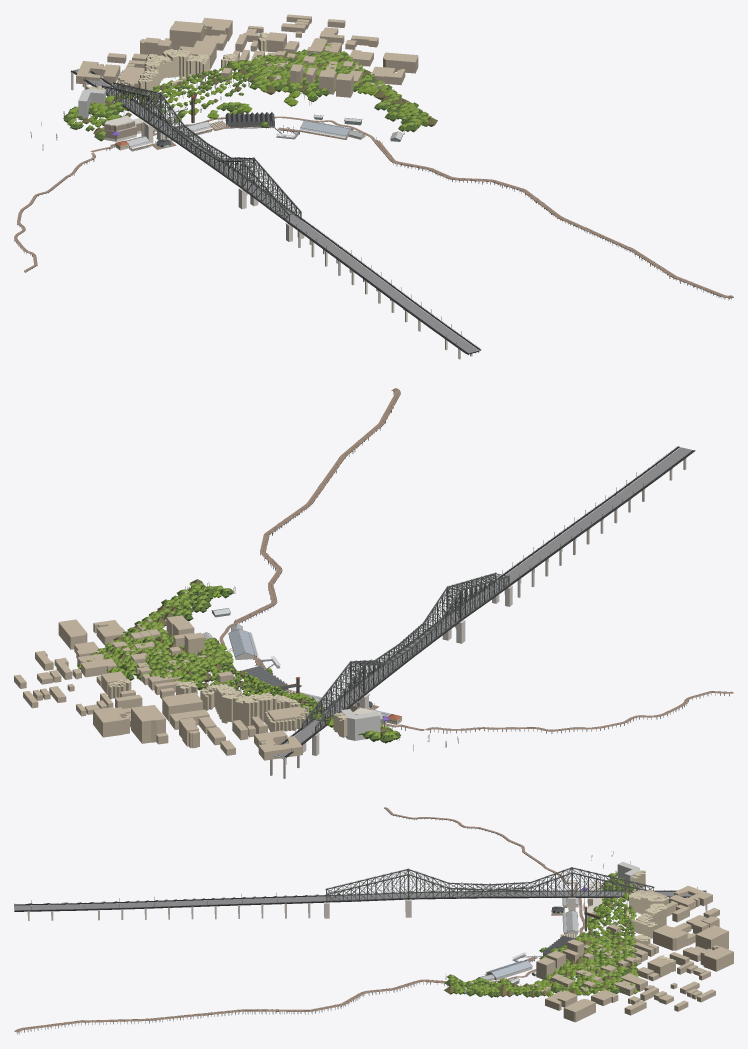
File: hsw_far.glb
3 views of the same model, one above another, from view 1: azimuth 30°, elevation 25°; view 2: azimuth 150°, elevation 25°; view 3: azimuth 270°, elevation 25° (orthographic). The views are drawn at different scales.
Visible parts, largest first — view 1: hsw_far_hsw_crest_wall, hsw_far_story_bridge_steel, hsw_far_hsw_hill_tops_leaf, hsw_far_clay_deck, hsw_far_hsw_hill_canopy_leaf, hsw_far_hsw_riverwalk, hsw_far_hsw_lidar_block_wall, hsw_far_hsw_hill_canopy_olive_leaf, hsw_far_story_bridge_underside, hsw_far_story_bridge_render, hsw_far_hsw_hill_canopy_dry_leaf, hsw_far_hsw_fascia; view 2: hsw_far_hsw_crest_wall, hsw_far_story_bridge_steel, hsw_far_hsw_hill_tops_leaf, hsw_far_clay_deck, hsw_far_hsw_lidar_block_wall, hsw_far_hsw_hill_canopy_leaf, hsw_far_hsw_riverwalk, hsw_far_story_bridge_render, hsw_far_story_bridge_underside, hsw_far_hsw_hill_canopy_olive_leaf, hsw_far_hsw_hill_canopy_dry_leaf, hsw_far_hsw_crest_wall_oak; view 3: hsw_far_hsw_crest_wall, hsw_far_story_bridge_steel, hsw_far_hsw_hill_tops_leaf, hsw_far_clay_deck, hsw_far_hsw_hill_canopy_leaf, hsw_far_hsw_riverwalk, hsw_far_story_bridge_underside, hsw_far_hsw_lidar_block_wall, hsw_far_hsw_hill_canopy_olive_leaf, hsw_far_hsw_hill_canopy_dry_leaf, hsw_far_story_bridge_render, hsw_far_hsw_steel_grey (+1 smaller).
Part boxes in pixels (bbox=[...]): hsw_far_hsw_crest_wall: bbox=[76, 14, 418, 97]; hsw_far_story_bridge_steel: bbox=[71, 70, 479, 351]; hsw_far_hsw_hill_tops_leaf: bbox=[67, 44, 431, 134]; hsw_far_clay_deck: bbox=[73, 69, 478, 353]; hsw_far_hsw_hill_canopy_leaf: bbox=[63, 44, 430, 141]; hsw_far_hsw_riverwalk: bbox=[14, 116, 733, 297]; hsw_far_hsw_lidar_block_wall: bbox=[86, 32, 268, 97]; hsw_far_hsw_hill_canopy_olive_leaf: bbox=[67, 49, 427, 131]; hsw_far_story_bridge_underside: bbox=[71, 70, 480, 354]; hsw_far_story_bridge_render: bbox=[70, 72, 472, 359]; hsw_far_hsw_hill_canopy_dry_leaf: bbox=[82, 53, 437, 134]; hsw_far_hsw_fascia: bbox=[17, 118, 733, 298]; hsw_far_hsw_crest_wall: bbox=[14, 615, 306, 760]; hsw_far_story_bridge_steel: bbox=[274, 446, 694, 756]; hsw_far_hsw_hill_tops_leaf: bbox=[87, 583, 397, 736]; hsw_far_clay_deck: bbox=[275, 447, 692, 756]; hsw_far_hsw_lidar_block_wall: bbox=[108, 679, 347, 737]; hsw_far_hsw_hill_canopy_leaf: bbox=[86, 582, 400, 743]; hsw_far_hsw_riverwalk: bbox=[219, 388, 733, 731]; hsw_far_story_bridge_render: bbox=[270, 454, 686, 778]; hsw_far_story_bridge_underside: bbox=[278, 446, 695, 757]; hsw_far_hsw_hill_canopy_olive_leaf: bbox=[77, 586, 397, 740]; hsw_far_hsw_hill_canopy_dry_leaf: bbox=[105, 579, 387, 735]; hsw_far_hsw_crest_wall_oak: bbox=[341, 709, 380, 740]; hsw_far_hsw_crest_wall: bbox=[534, 885, 733, 1022]; hsw_far_story_bridge_steel: bbox=[14, 867, 697, 910]; hsw_far_hsw_hill_tops_leaf: bbox=[448, 872, 636, 992]; hsw_far_clay_deck: bbox=[14, 891, 705, 910]; hsw_far_hsw_hill_canopy_leaf: bbox=[444, 873, 638, 997]; hsw_far_hsw_riverwalk: bbox=[14, 807, 584, 1032]; hsw_far_story_bridge_underside: bbox=[14, 890, 706, 911]; hsw_far_hsw_lidar_block_wall: bbox=[626, 870, 675, 971]; hsw_far_hsw_hill_canopy_olive_leaf: bbox=[452, 873, 638, 996]; hsw_far_hsw_hill_canopy_dry_leaf: bbox=[444, 876, 635, 997]; hsw_far_story_bridge_render: bbox=[27, 891, 707, 920]; hsw_far_hsw_steel_grey: bbox=[17, 815, 584, 1034].
Size of the model in its own units: 912 by 84.64 by 1232.
